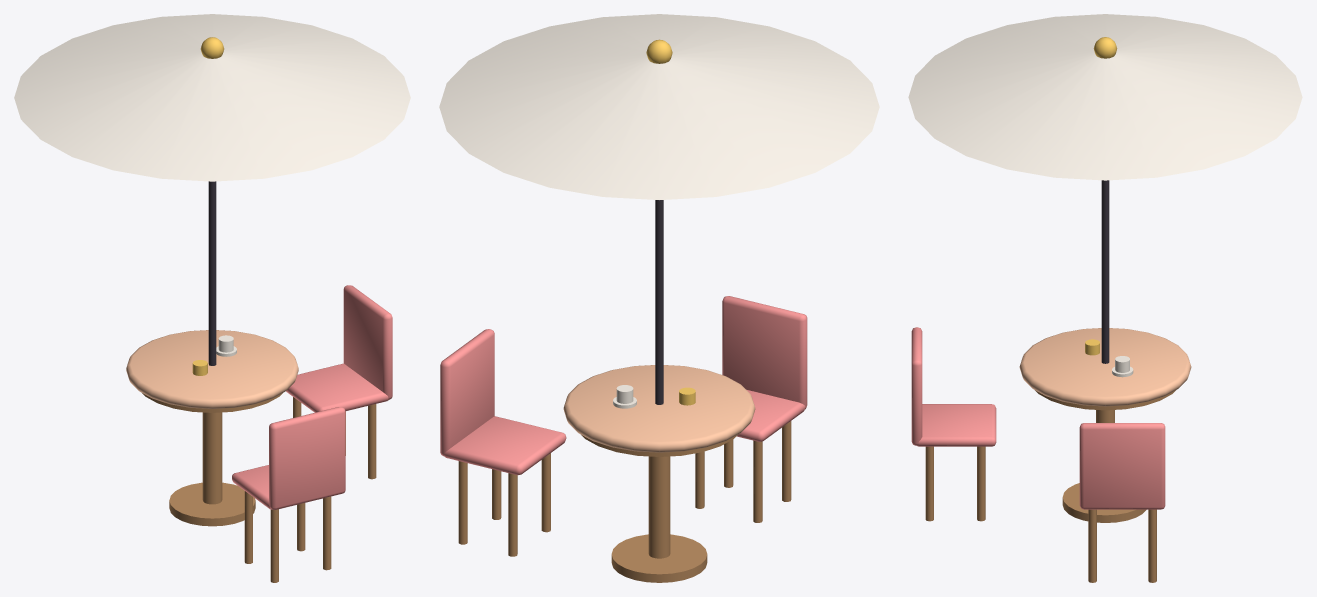
Rendered from cafe_set.glb.
The picture shows the model from 3 angles, left to right: view 1: azimuth 30°, elevation 25°; view 2: azimuth 150°, elevation 25°; view 3: azimuth 270°, elevation 25°; orthographic projection. The views are drawn at different scales.
Visible parts, largest first — view 1: cafe_set; view 2: cafe_set; view 3: cafe_set.
Boxes of the visible parts, x1,y1,x2,y2 form: cafe_set: (14,14,410,582); cafe_set: (439,14,879,582); cafe_set: (908,14,1302,582).
Bounding box in the file's own units: 1.84 × 2.41 × 1.84.
